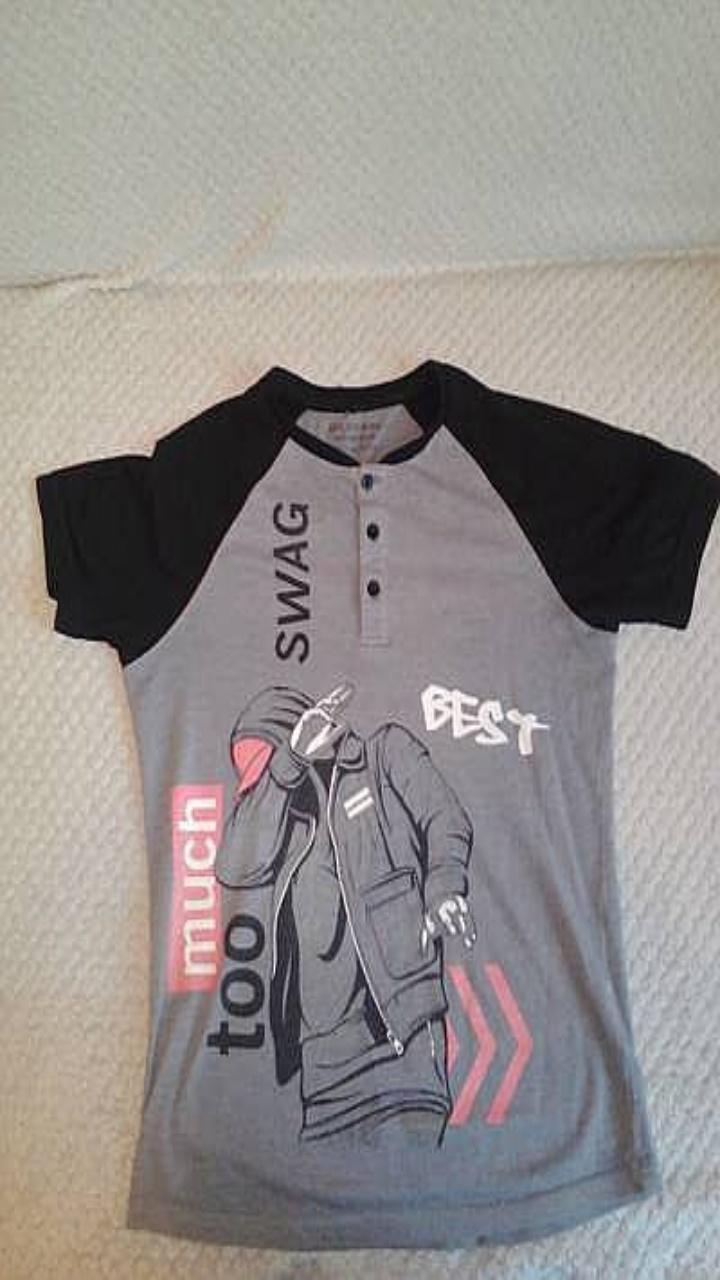T-Shirt: (36, 359, 719, 1249)
